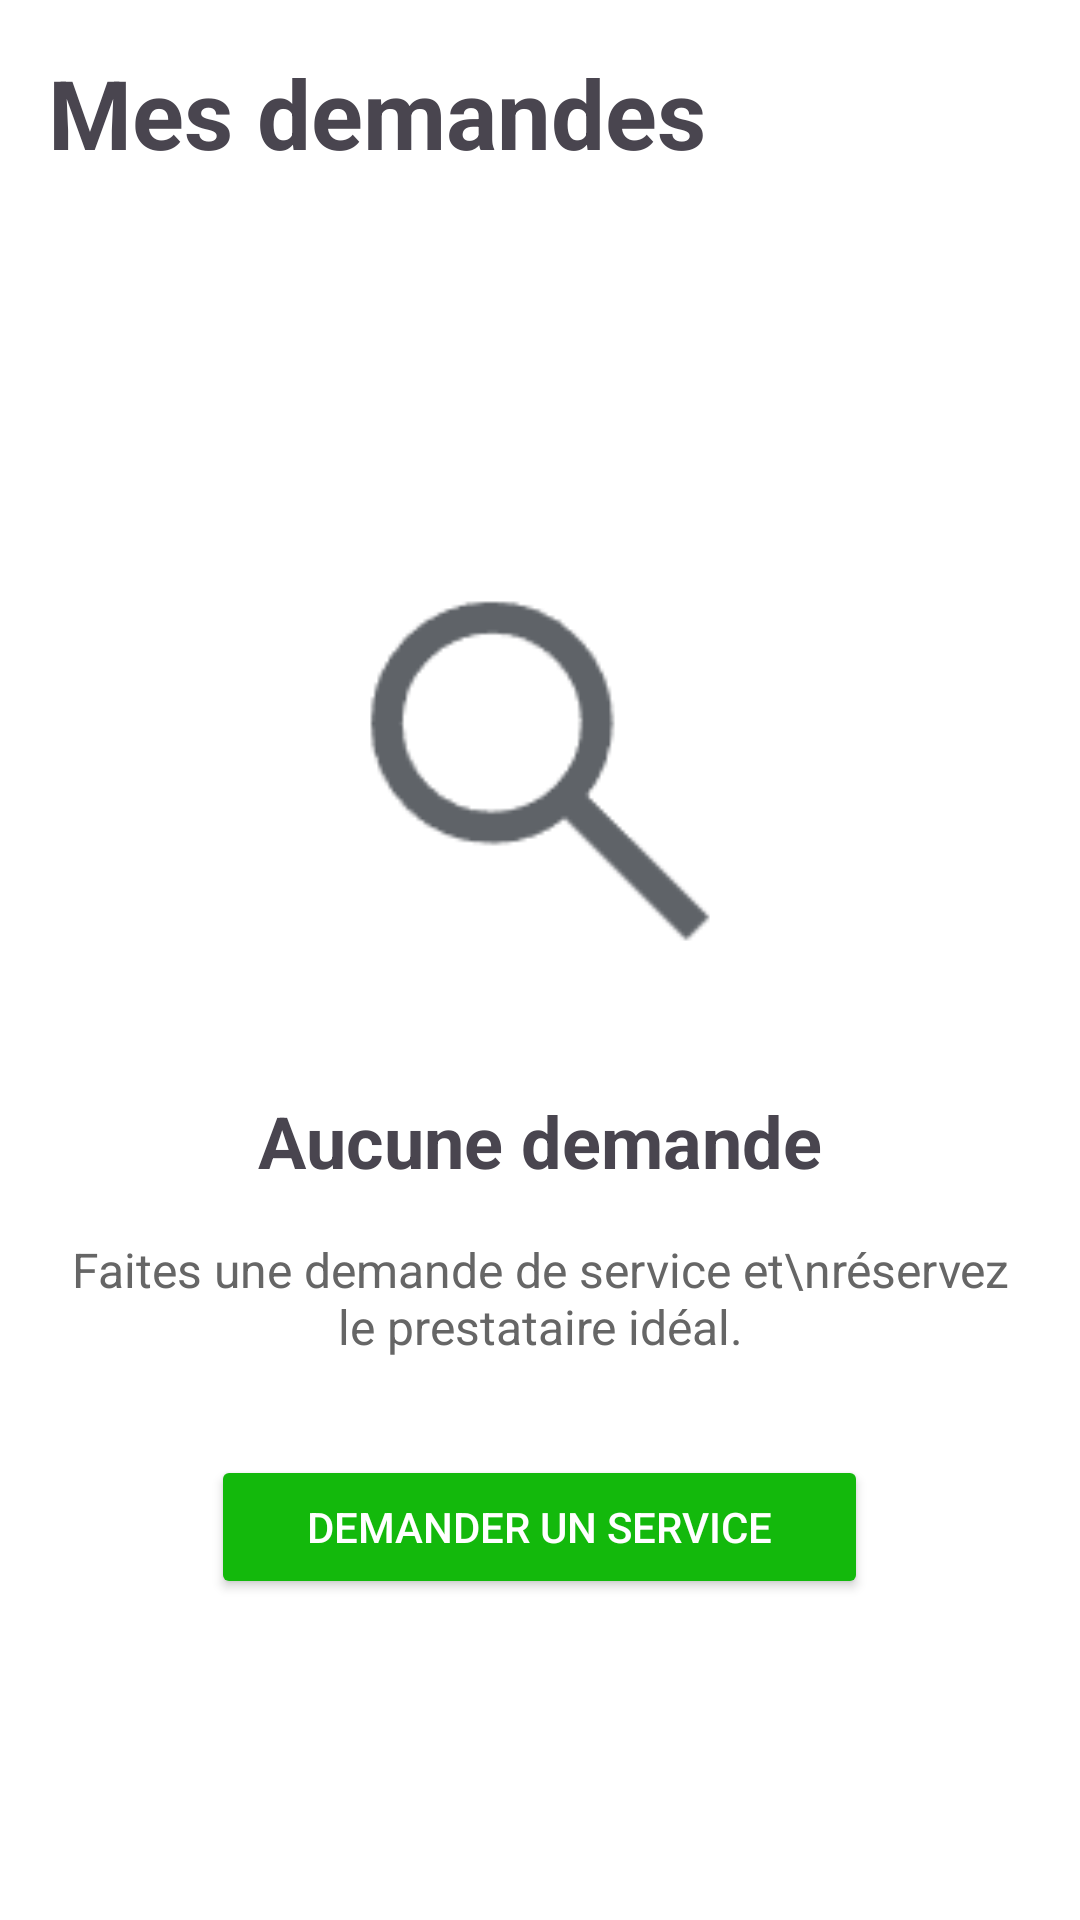

Screen size 1080x1920. Icon name, then its center in pixels as [x,y]:
empty request: [540,771]
